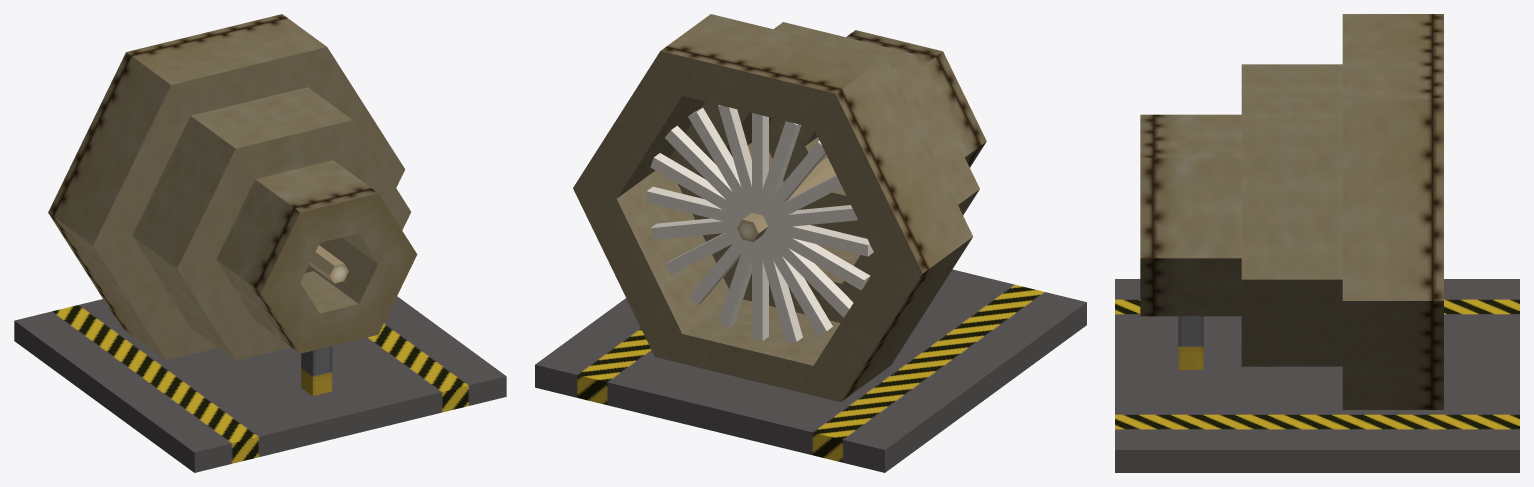
The model's file is steam_turbine.obj.
3 views of the same model, side by side, from view 1: azimuth 30°, elevation 25°; view 2: azimuth 150°, elevation 25°; view 3: azimuth 270°, elevation 25° (orthographic). The views are drawn at different scales.
Parts seen in each view (by area): view 1: 立方体.2, 圆柱.1; view 2: 立方体.2, 圆柱.1; view 3: 立方体.2.
Part boxes in pixels (x1,y1,x2,y2): 立方体.2: (14, 14, 506, 472); 圆柱.1: (309, 245, 348, 283); 立方体.2: (535, 14, 1086, 472); 圆柱.1: (646, 105, 873, 342); 立方体.2: (1115, 14, 1519, 472).
Bounding box in the file's own units: 1 × 0.9018 × 1.
